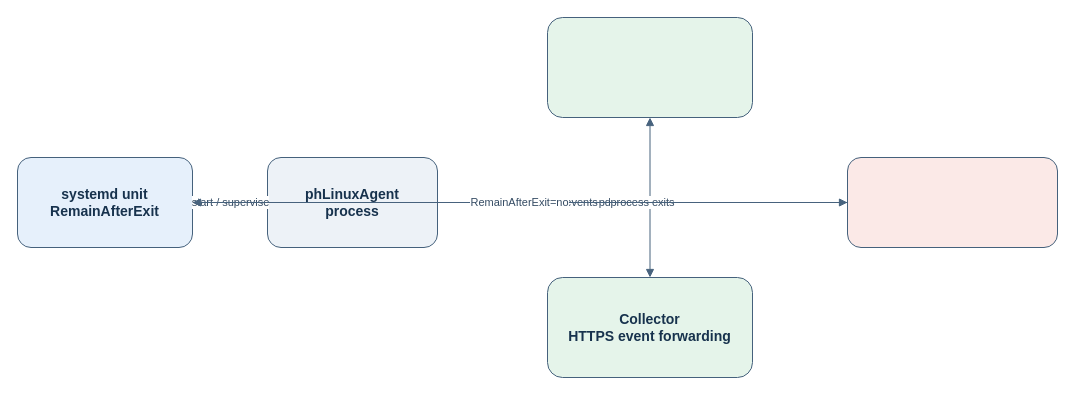
Some shapes in this 1075 by 395 pixel diagram are drawn without their labels. Here are the shapes that lost their labels. From the top down, the centre of each, then its label:
At (649,67): "Supervisor HTTPS registration monitoring templates".
At (952,202): "SIGSEGV / exit 11 systemd restart decision".
